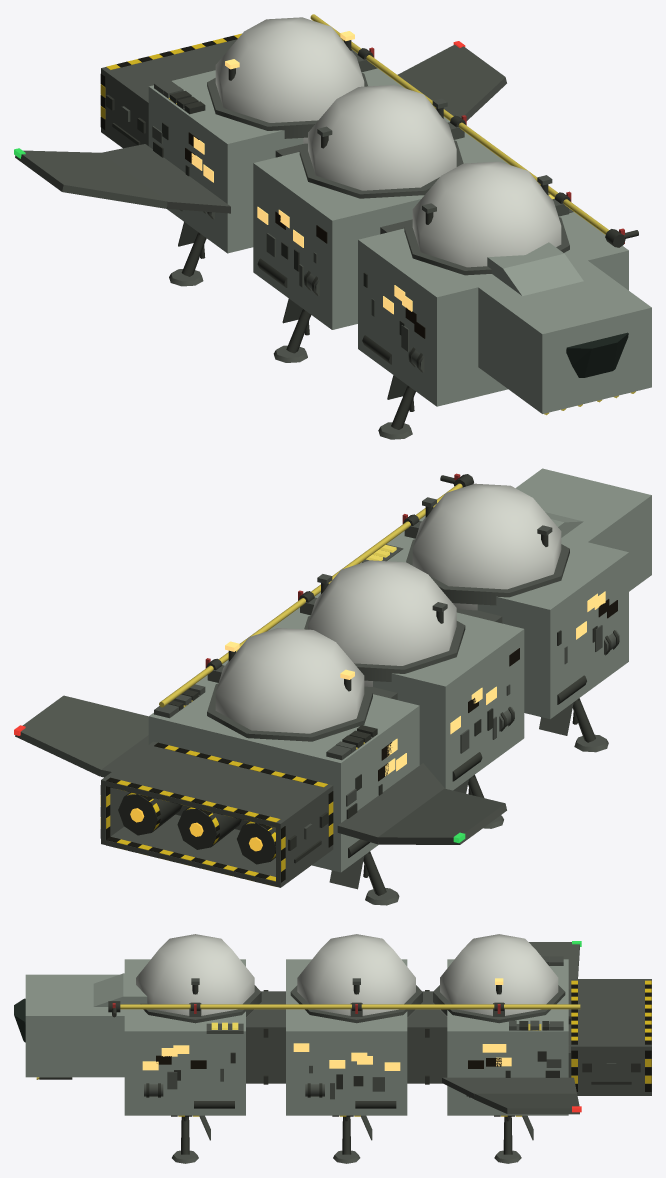
The model's file is h2_freighter-l.glb.
3 renders of one model, top to bottom at view 1: azimuth 30°, elevation 25°; view 2: azimuth 150°, elevation 25°; view 3: azimuth 270°, elevation 25°, orthographic. The views are drawn at different scales.
Visible parts, largest first — view 1: hullMain, hullNose, hullSection1, pressureTank1, pressureTank0, pressureTank2, hullSection2, wingOuterLeft, wingOuterRight, wingInnerLeft, shroudPlateTop, canopyFairing (+6 smaller); view 2: hullMain, hullSection2, hullSection1, pressureTank0, pressureTank2, pressureTank1, shroudPlateTop, hullNose, wingOuterRight, wingOuterLeft, engineHousing (×3), shroudPlateBottom (+7 smaller); view 3: hullSection1, hullMain, hullNose, hullSection2, pressureTank1, pressureTank2, pressureTank0, shroudPlateTop, gantry0, gantry1, shroudPlateRight, h2Manifold (+8 smaller).
Part boxes in pixels (x1,y1,x2,y2): hullMain: (358,193,628,406); hullNose: (473,256,651,413); hullSection1: (253,117,509,329); pressureTank1: (308,85,456,190); pressureTank0: (412,161,561,267); pressureTank2: (215,17,364,143); hullSection2: (148,68,403,253); wingOuterLeft: (15,150,167,208); wingOuterRight: (397,44,506,120); wingInnerLeft: (101,144,230,213); shroudPlateTop: (101,39,236,107); canopyFairing: (487,242,583,295); hullMain: (360,515,628,719); hullSection2: (148,660,419,872); hullSection1: (268,592,524,790); pressureTank0: (412,483,561,610); pressureTank2: (215,628,364,733); pressureTank1: (308,560,456,686); shroudPlateTop: (101,741,333,828); hullNose: (516,468,651,591); wingOuterRight: (15,695,148,776); wingOuterLeft: (377,788,506,844); engineHousing (×3): (118,792,275,864); shroudPlateBottom: (101,814,333,887); hullSection1: (286,959,407,1115); hullMain: (124,959,245,1115); hullNose: (25,974,132,1077); hullSection2: (447,959,568,1115); pressureTank1: (297,934,415,1017); pressureTank2: (440,934,558,1016); pressureTank0: (136,934,254,1017); shroudPlateTop: (571,979,651,1050); gantry0: (246,991,285,1083); gantry1: (407,991,447,1083); shroudPlateRight: (571,1050,651,1091); h2Manifold: (120,1004,580,1009).
Bounding box in the file's own units: 6.6 × 3.35 × 10.63.
